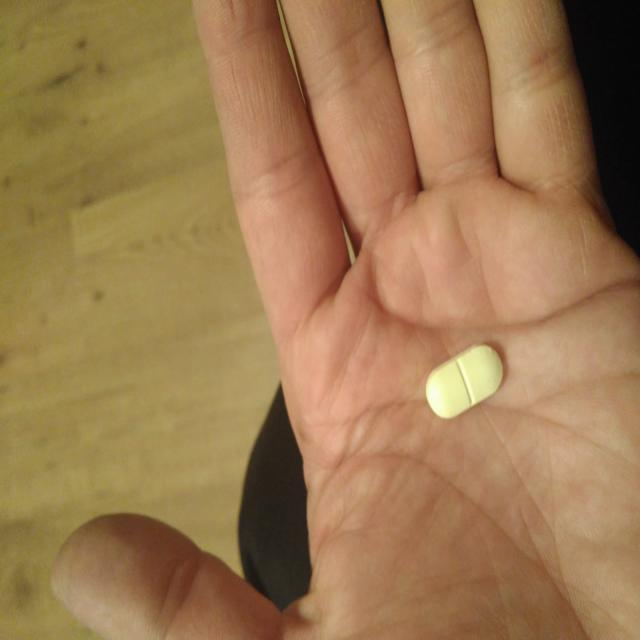pills: (419, 336, 512, 425)
